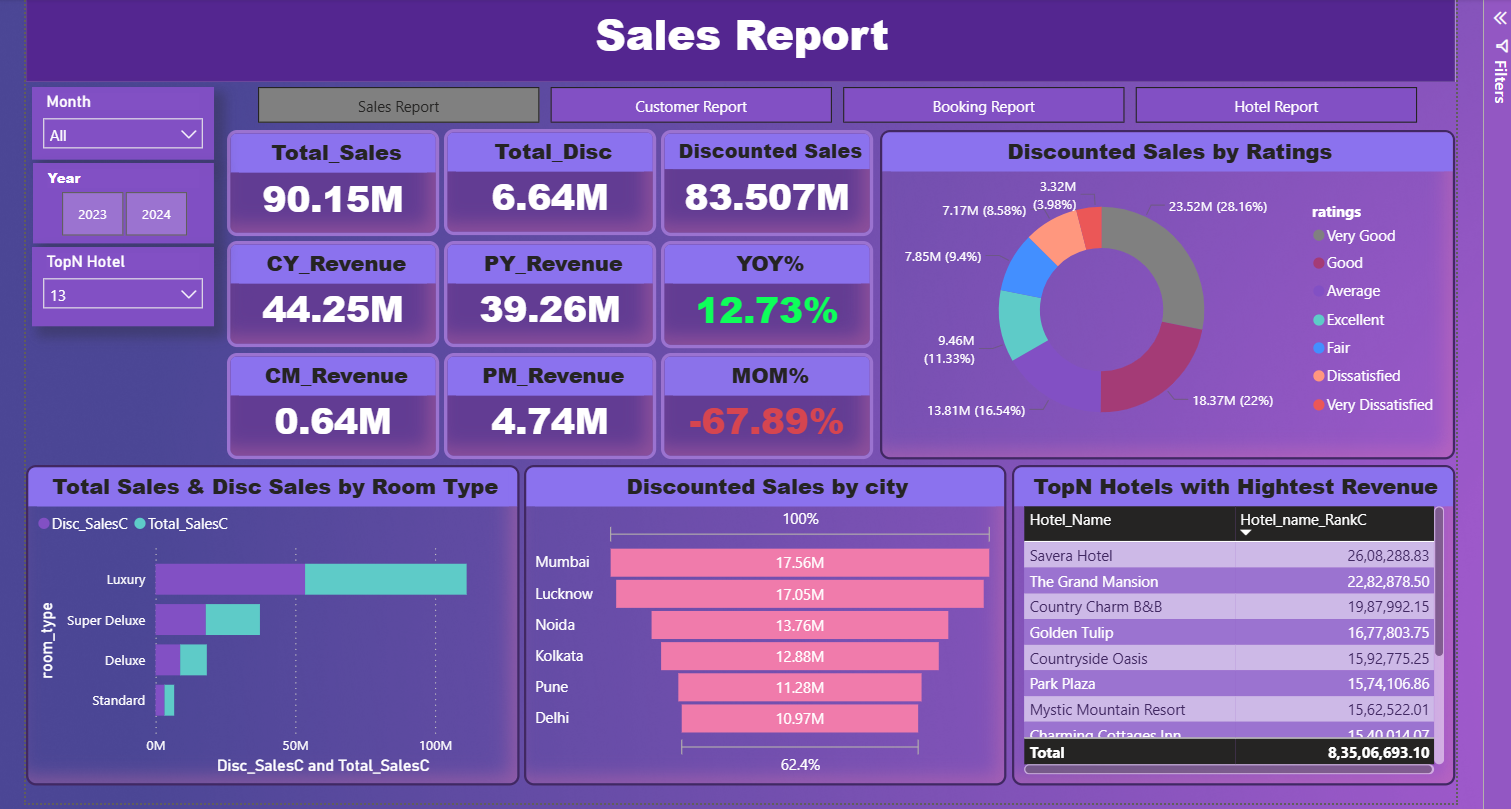

The page's visual inventory and layout, read from the dashboard file:
{"tool":"powerbi","page":{"name":"Sales Report","canvas":[1280,720],"ordinal":0},"visuals":[{"type":"shape","box":[0,0,1279.7,74.3],"z":0},{"type":"card","title":"Total_Sales","fields":{"Values":["New Measure.Total_SalesC"]},"box":[180.1,117.3,190,95],"z":1000},{"type":"card","title":"Total_Disc","fields":{"Values":["New Measure.Total_DiscC"]},"box":[374.3,116.4,189.9,94.9],"z":2000},{"type":"card","title":"Discounted Sales","fields":{"Values":["New Measure.Disc_SalesC"]},"box":[568.7,117.3,189.9,94.9],"z":3000},{"type":"slicer","title":"Month","fields":{"Values":["Date.Date.Variation.Date Hierarchy.Month"]},"box":[5.4,78.8,163,65.4],"z":4000},{"type":"card","title":"CY_Revenue","fields":{"Values":["New Measure.CY_RevenueC"]},"box":[180,216.7,189.9,94.9],"z":5000},{"type":"card","title":"PY_Revenue","fields":{"Values":["New Measure.PY_RevenueC"]},"box":[374.3,216.7,189.9,94.9],"z":6000},{"type":"card","title":"YOY%","fields":{"Values":["New Measure.YOYC%"]},"box":[568.7,216.7,189.9,95.8],"z":7000},{"type":"card","title":"CM_Revenue","fields":{"Values":["New Measure.CM_RevenueC"]},"box":[180,317,189.9,94.9],"z":8000},{"type":"card","title":"PM_Revenue","fields":{"Values":["New Measure.PM_RevenueC"]},"box":[374.3,317,189.9,94.9],"z":9000},{"type":"card","title":"MOM%","fields":{"Values":["All Measures.MOM%"]},"box":[568.7,317,189.9,94.9],"z":10000},{"type":"textbox","box":[494.3,0,293.7,69.9],"z":11000},{"type":"donutChart","title":"Discounted Sales by Ratings","fields":{"Category":["ratings.ratings"],"Y":["New Measure.Disc_SalesC"]},"box":[764.8,117.3,514.9,294.6],"z":12000},{"type":"pageNavigator","box":[207.8,78.8,1038.8,32.2],"z":13000},{"type":"slicer","title":"Month","fields":{"Values":["Date.Date.Variation.Date Hierarchy.Year"]},"box":[6.3,146.9,162.1,71.6],"z":14000},{"type":"slicer","title":"Month","fields":{"Values":["TopN Hotel.TopN Hotel"]},"box":[5.4,222.1,163,70.7],"z":15000},{"type":"barChart","title":"Total Sales & Disc Sales by Room Type","fields":{"Category":["bookings.room_type"],"Y":["New Measure.Disc_SalesC","New Measure.Total_SalesC"]},"box":[0,417.3,442.4,287.5],"z":16000},{"type":"funnel","title":"Discounted Sales by city","fields":{"Y":["New Measure.Disc_SalesC"],"Category":["hotels.city"]},"box":[446,417.3,431.6,287.5],"z":17000},{"type":"tableEx","title":"TopN Hotels with Hightest Revenue","fields":{"Values":["hotels.Hotel_Name","New Measure.Hotel_name_RankC"]},"box":[883,417.3,396.7,287.5],"z":18000}]}

Visuals, with their boxes on the page's 1280x720 design canvas (x1, y1, x2, y2). These are canvas units, not pixel positions in the 1511x809 screenshot, which may show the page scaled, cropped or inside an application window:
shape: region(0, 0, 1280, 74)
"Total_Sales" card: region(180, 117, 370, 212)
"Total_Disc" card: region(374, 116, 564, 211)
"Discounted Sales" card: region(569, 117, 759, 212)
"Month" slicer: region(5, 79, 168, 144)
"CY_Revenue" card: region(180, 217, 370, 312)
"PY_Revenue" card: region(374, 217, 564, 312)
"YOY%" card: region(569, 217, 759, 312)
"CM_Revenue" card: region(180, 317, 370, 412)
"PM_Revenue" card: region(374, 317, 564, 412)
"MOM%" card: region(569, 317, 759, 412)
textbox: region(494, 0, 788, 70)
"Discounted Sales by Ratings" donutChart: region(765, 117, 1280, 412)
pageNavigator: region(208, 79, 1247, 111)
"Month" slicer: region(6, 147, 168, 218)
"Month" slicer: region(5, 222, 168, 293)
"Total Sales & Disc Sales by Room Type" barChart: region(0, 417, 442, 705)
"Discounted Sales by city" funnel: region(446, 417, 878, 705)
"TopN Hotels with Hightest Revenue" tableEx: region(883, 417, 1280, 705)
